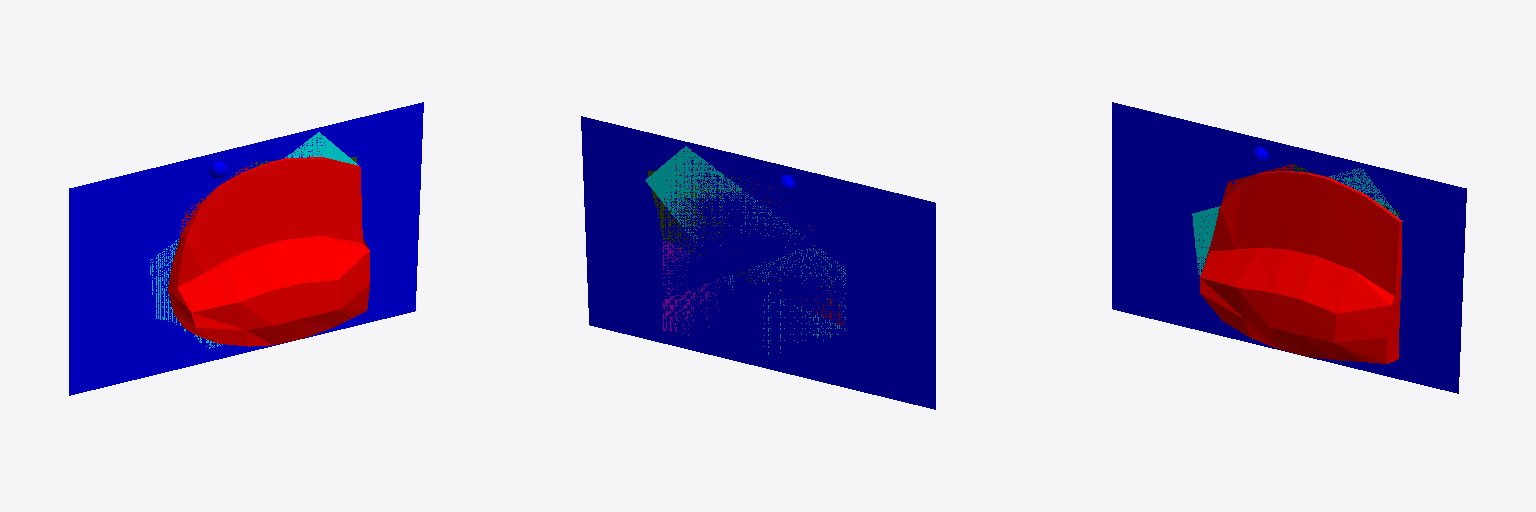
The model's file is teste.obj.
3 views of the same model, side by side, from view 1: azimuth 30°, elevation 25°; view 2: azimuth 150°, elevation 25°; view 3: azimuth 330°, elevation 25° (orthographic).
Visible parts, largest first — view 1: Floor, Pool, Calibration polygon; view 2: Floor, Calibration polygon, Threshold-Region0, Threshold-Region3; view 3: Floor, Pool, Calibration polygon.
Boxes of the visible parts, x1,y1,x2,y2 form: Floor: [69, 102, 423, 395]; Pool: [168, 157, 369, 346]; Calibration polygon: [150, 132, 358, 323]; Floor: [581, 116, 935, 409]; Calibration polygon: [645, 146, 845, 346]; Threshold-Region0: [647, 171, 767, 282]; Threshold-Region3: [663, 241, 720, 335]; Floor: [1112, 102, 1466, 393]; Pool: [1200, 171, 1401, 363]; Calibration polygon: [1192, 168, 1402, 275].
Bounding box in the file's own units: 43 × 24 × 6.01.